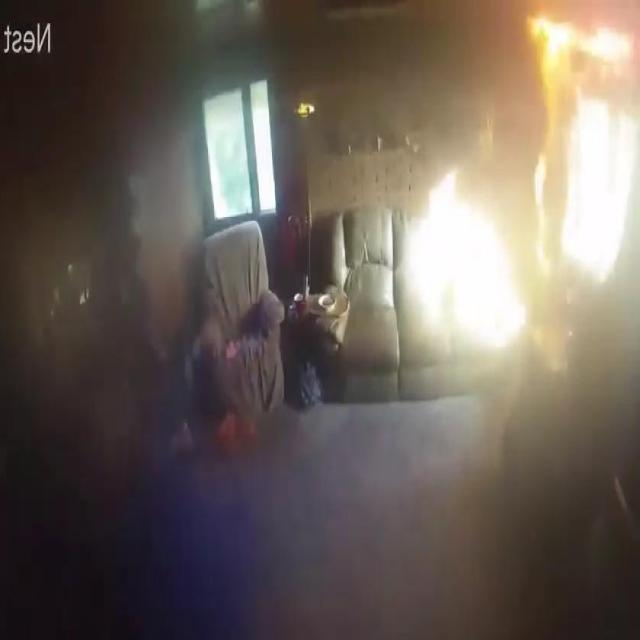smoke: (512, 10, 638, 96)
